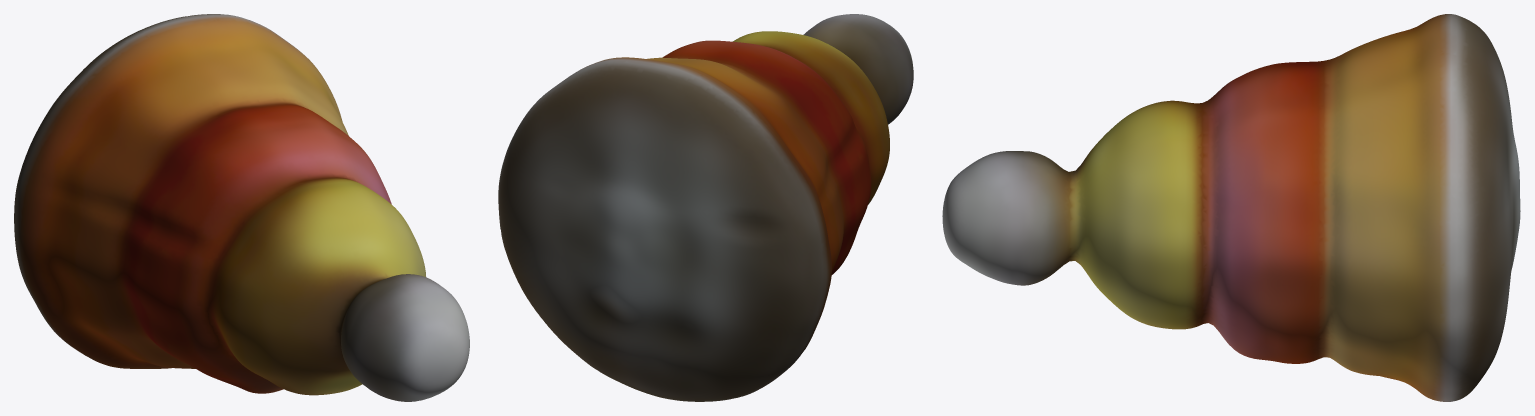
Rendered from chicken.glb.
The picture shows the model from 3 angles, left to right: view 1: azimuth 30°, elevation 25°; view 2: azimuth 150°, elevation 25°; view 3: azimuth 270°, elevation 25°; orthographic projection. The views are drawn at different scales.
Bounding box in the file's own units: 0.6791 × 0.6726 × 0.9998.
